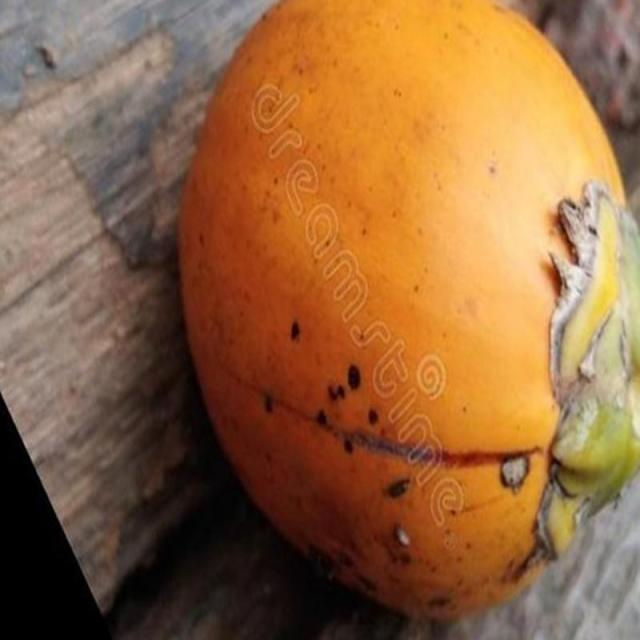good: (178, 0, 639, 627)
